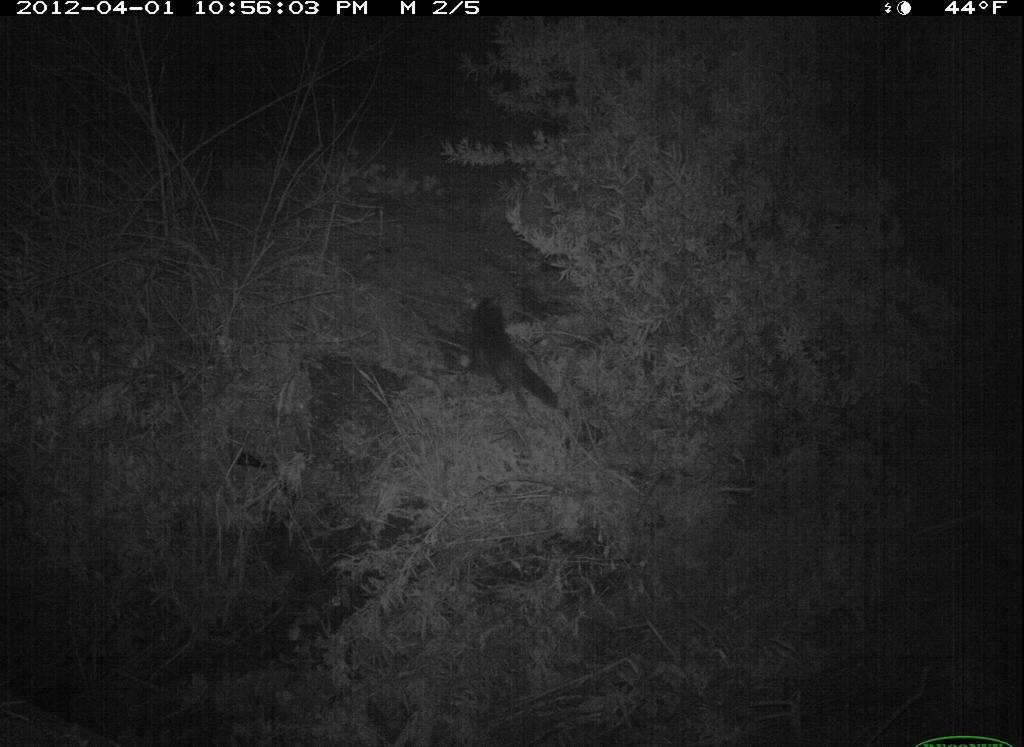cat: (438, 282, 583, 443)
